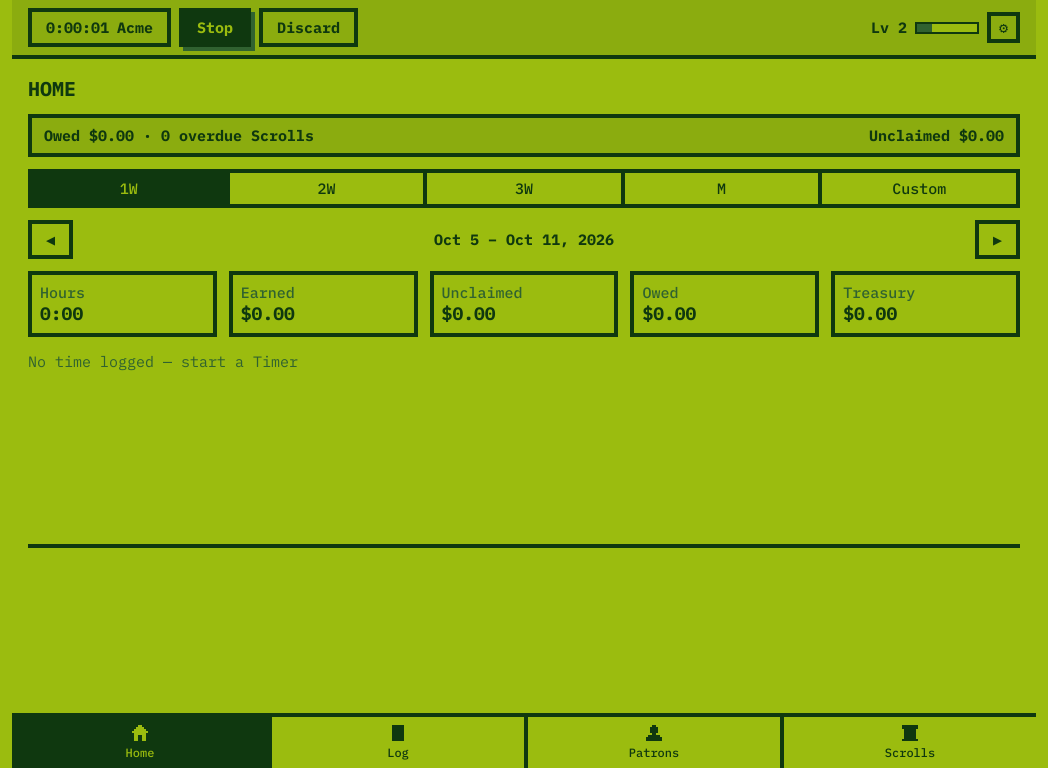
Test: level-up banner › shows a level-up reached by stopping the Timer
Expected: the text "Lv 2" is shown, 871,18 -> 907,37
Click the button "Stop" at {"x": 215, "y": 28}, box 179,8 -> 251,47
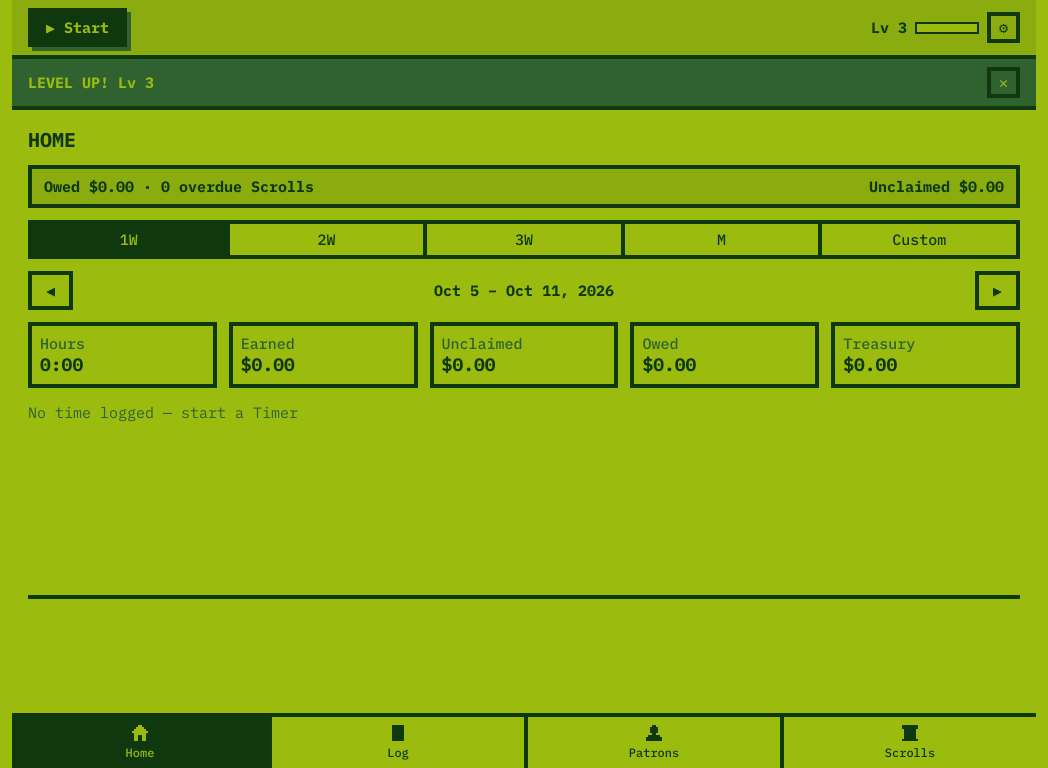
Expected: the message shows "LEVEL UP! Lv 3", 12,59 -> 1036,110
